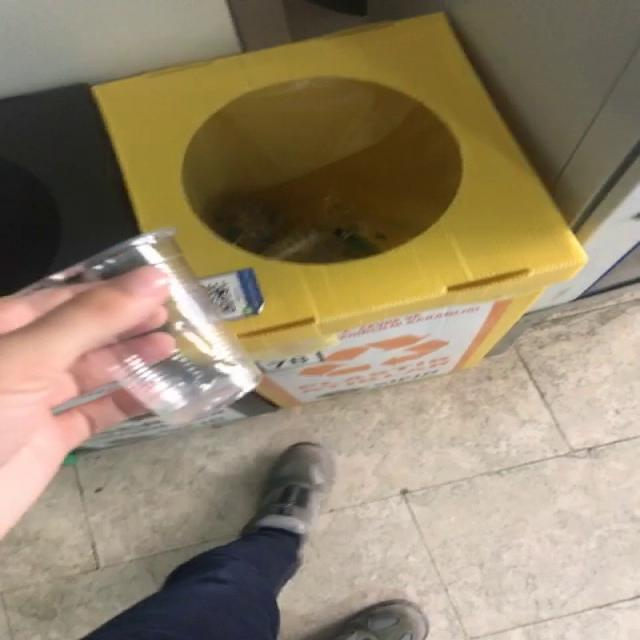plastic: (20, 228, 261, 424)
